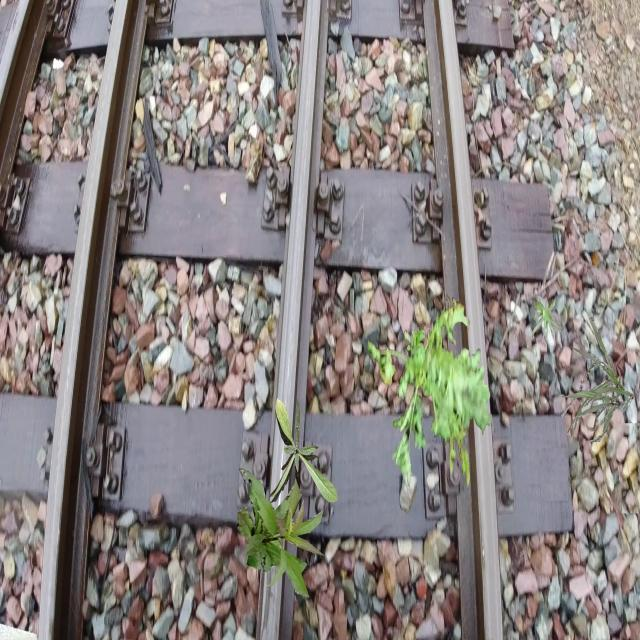Plant: (368, 295, 493, 491), (237, 468, 326, 598), (561, 318, 634, 442), (266, 397, 338, 505), (532, 298, 564, 344), (407, 327, 424, 359)
